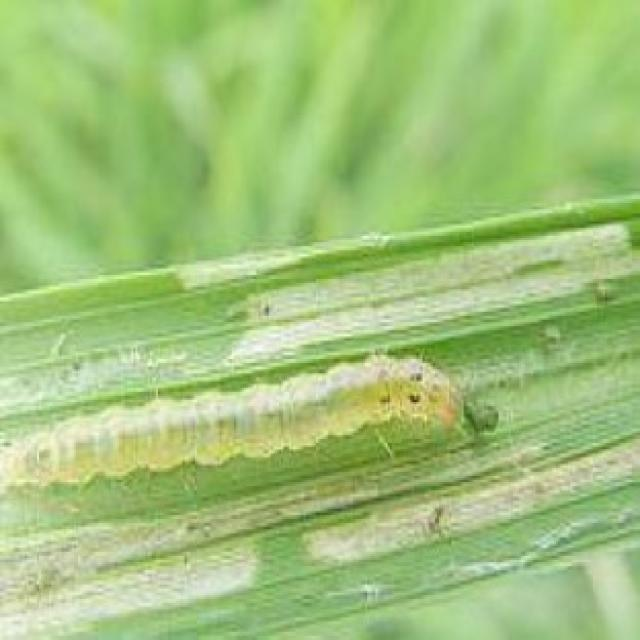rice leaf roller: (0, 224, 638, 638), (302, 439, 638, 564)
